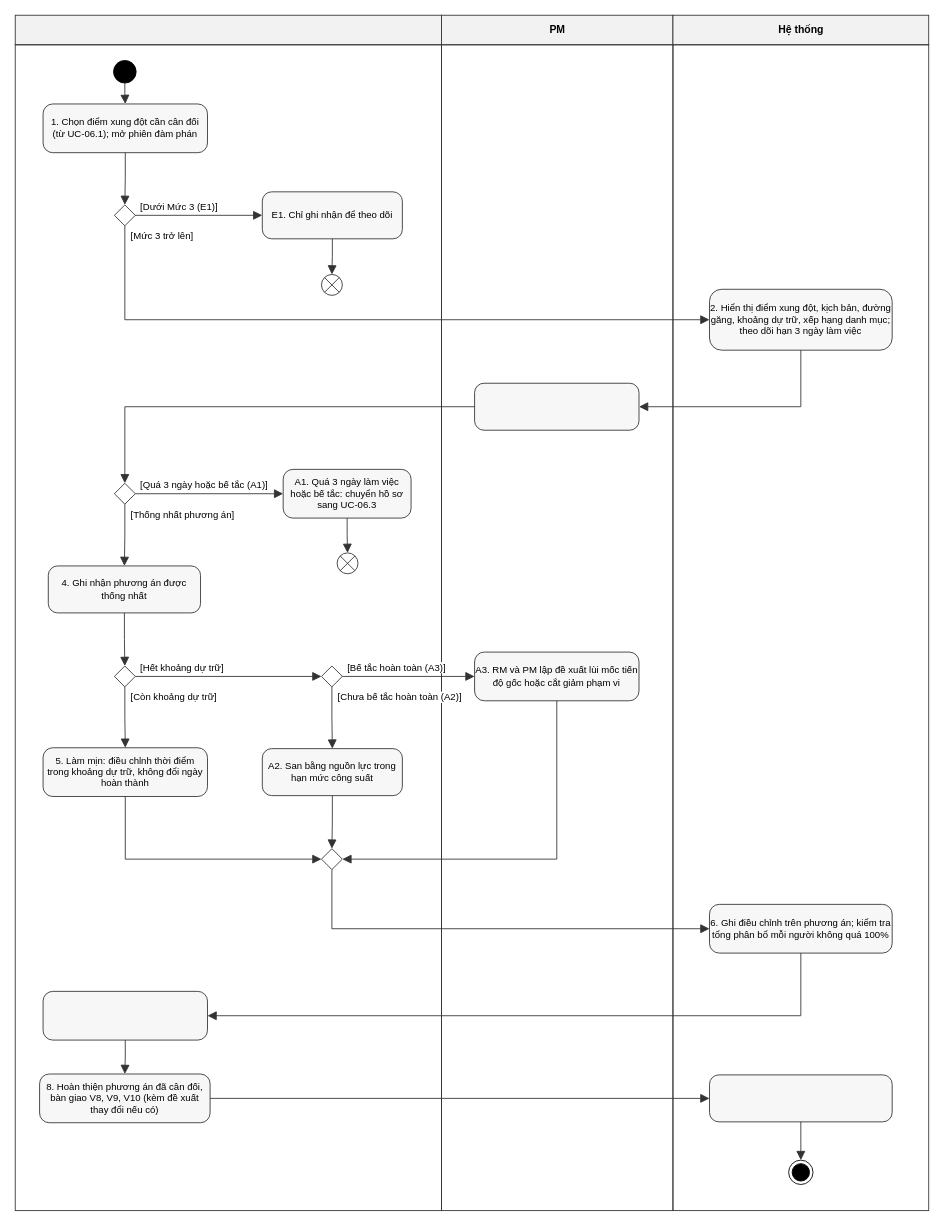
This 944x1226 diagram has some shape labels left out. Here are the shapes that lost their labels. From the top down, the box of each, then its label:
(14, 14, 442, 45): RM
(474, 382, 639, 430): 3. Đàm phán chia sẻ, thay thế hoặc điều chỉnh nhu cầu nguồn lực
(42, 990, 207, 1040): 7. Ghi nhật ký xử lý xung đột: điểm xung đột, đàm phán, điều chỉnh
(709, 1074, 892, 1122): 9. Lưu nhật ký (tối thiểu 3 năm); chuyển phương án sang V8, V9, V10
